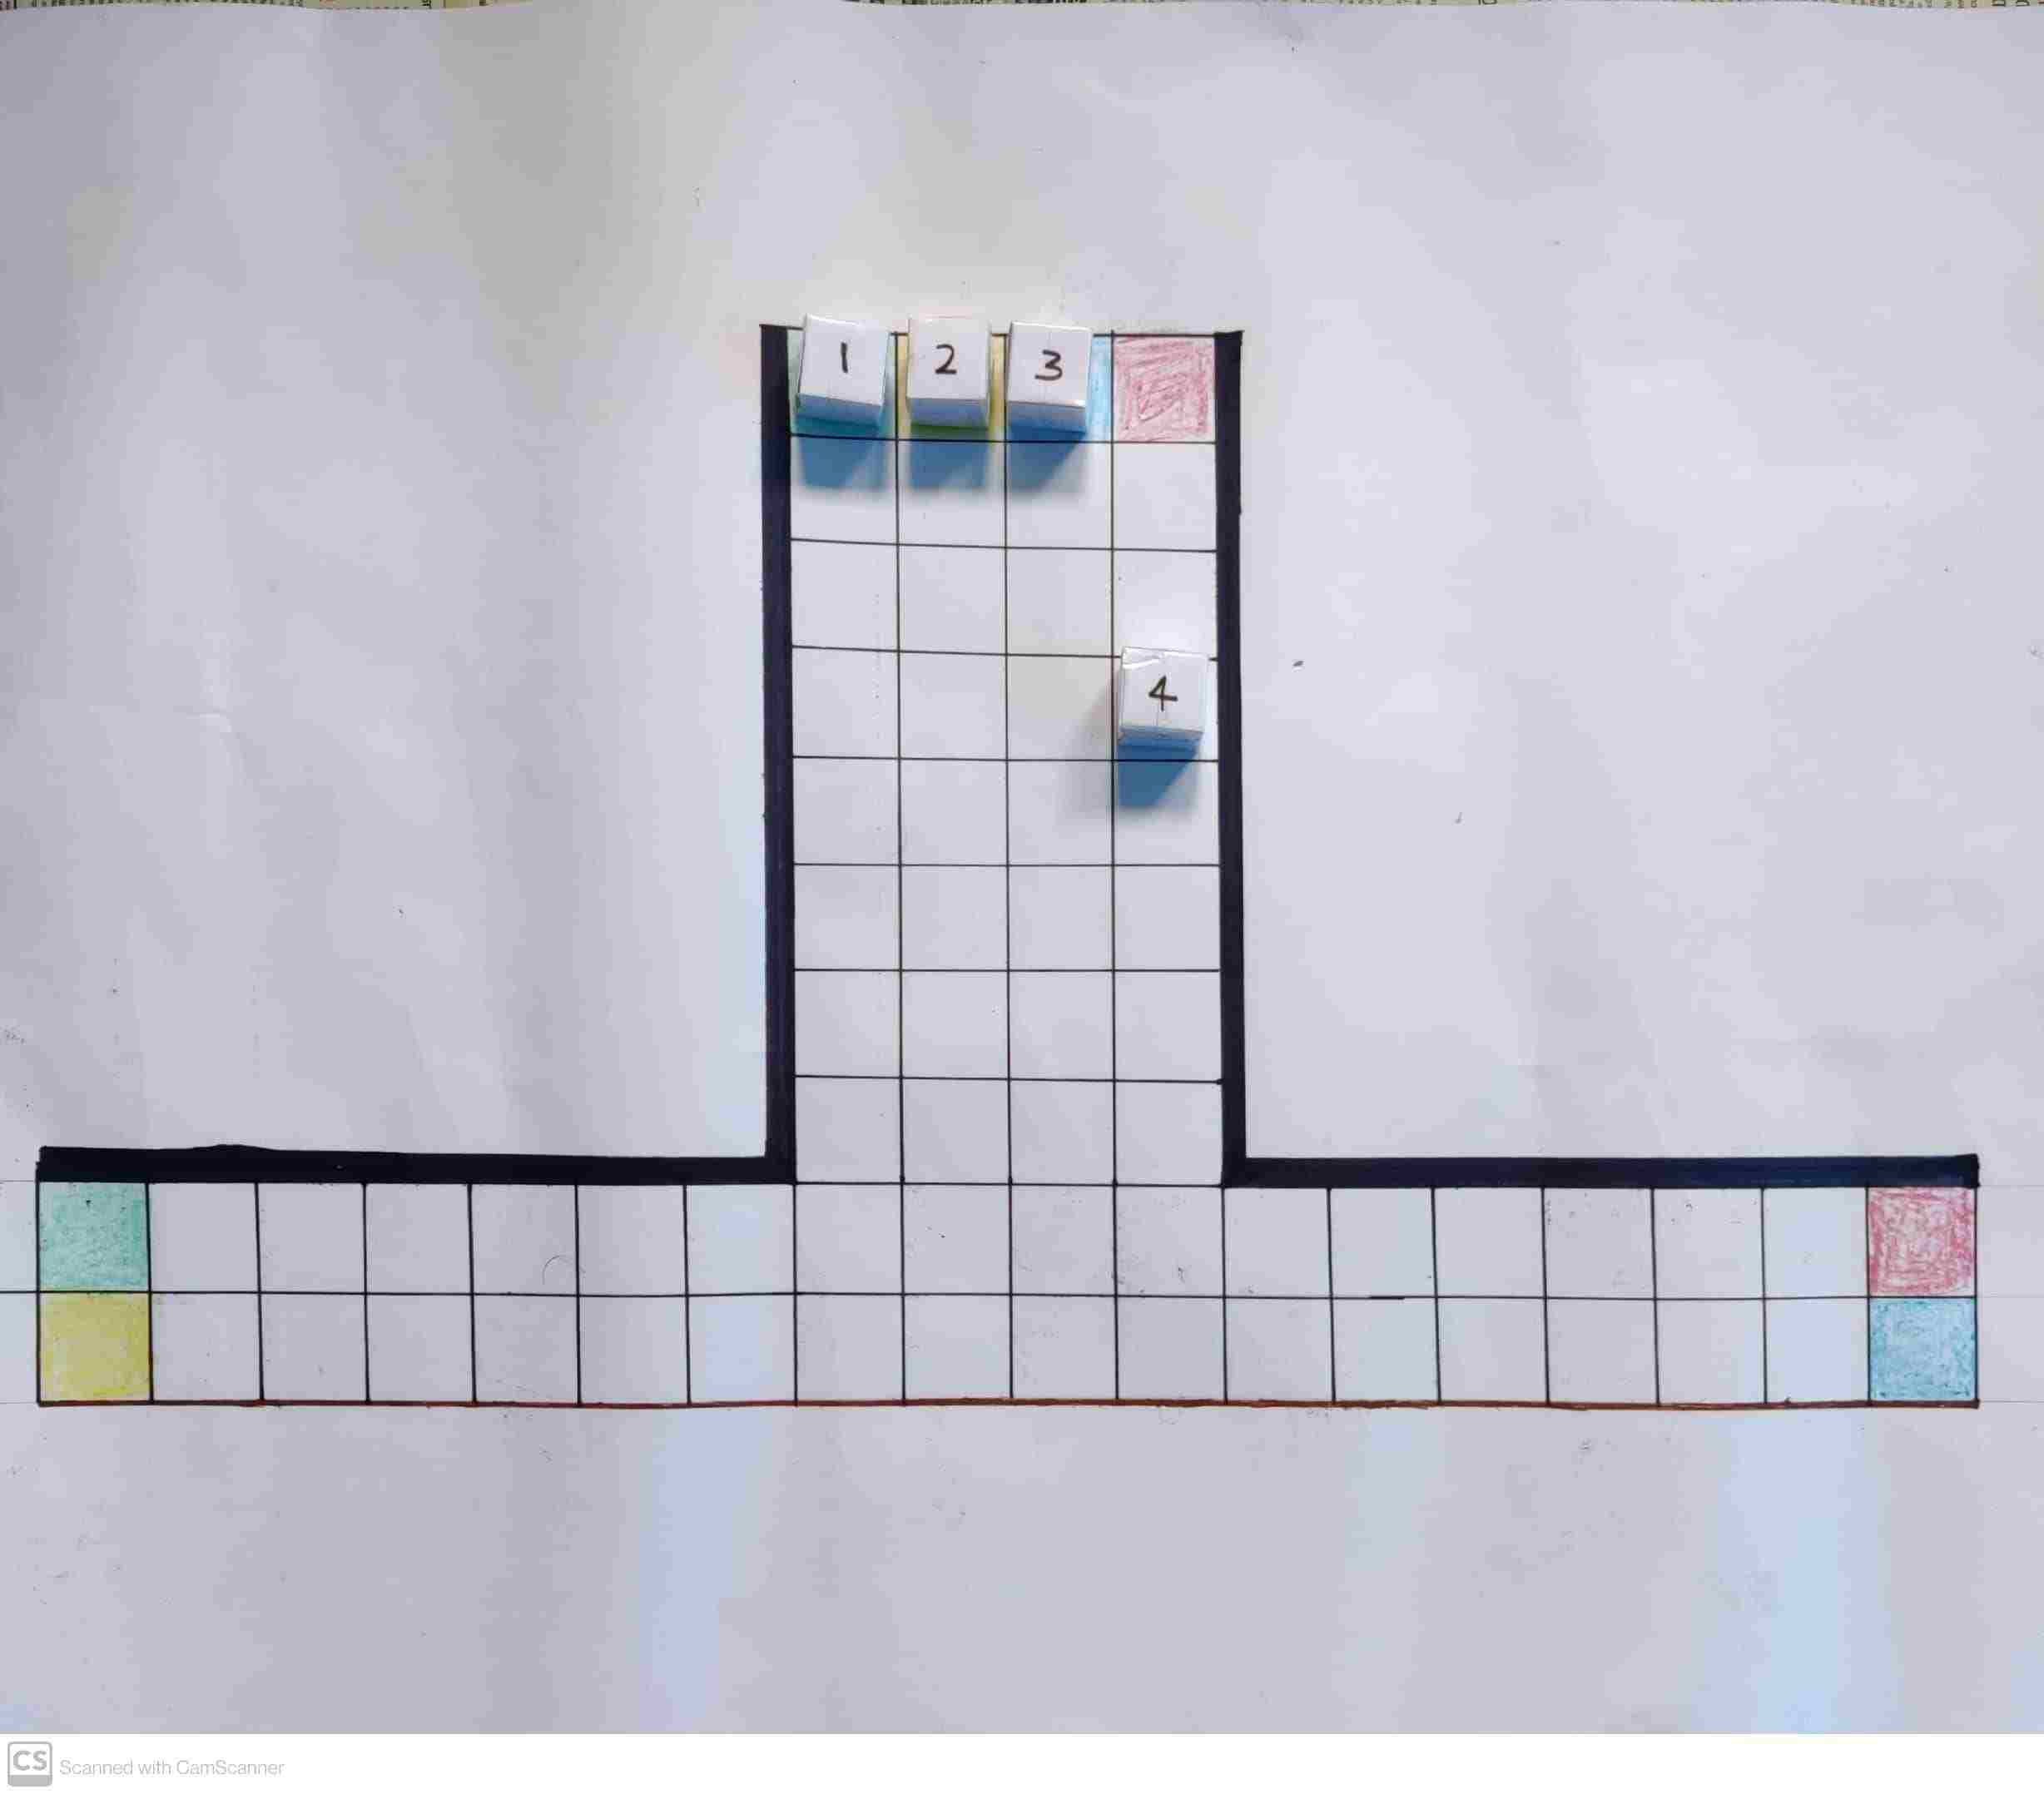arena: (36, 325, 1980, 1413)
bot: (800, 316, 885, 400), (1121, 650, 1206, 730), (1008, 320, 1092, 400), (907, 323, 989, 400)
